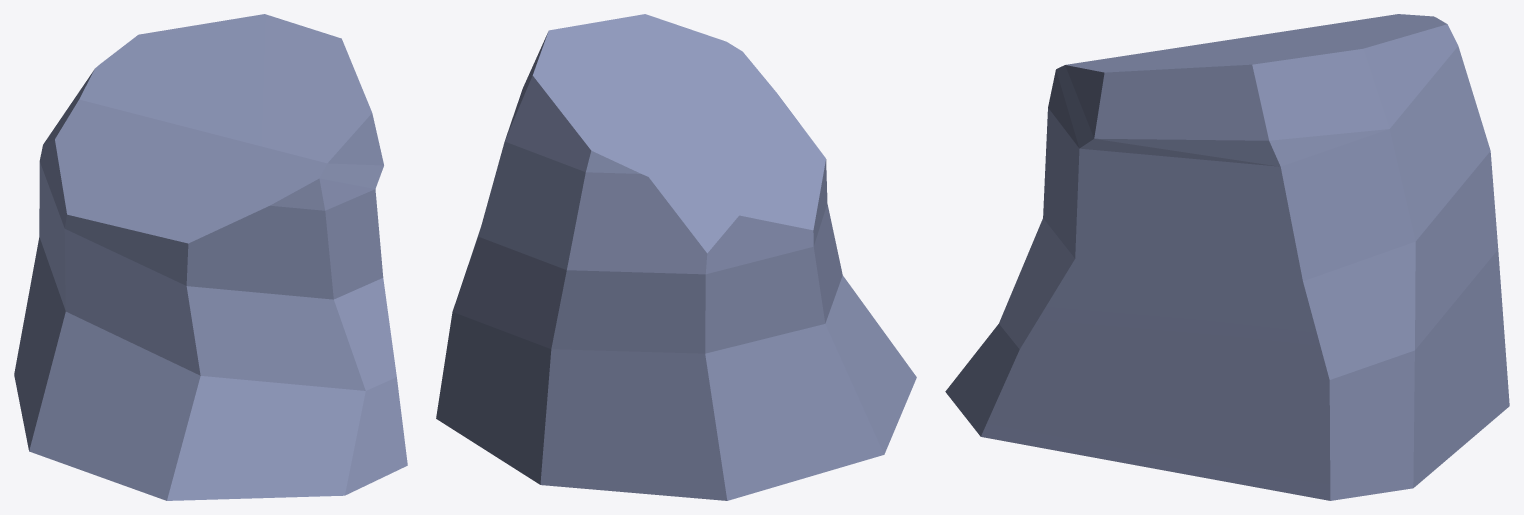
File: Rock_32.fbx
3 views of the same model, side by side, from view 1: azimuth 30°, elevation 25°; view 2: azimuth 150°, elevation 25°; view 3: azimuth 270°, elevation 25° (orthographic). The views are drawn at different scales.
Parts seen in each view (by area): view 1: Rock_32; view 2: Rock_32; view 3: Rock_32.
Boxes of the visible parts, x1,y1,x2,y2 form: Rock_32: [14, 14, 407, 500]; Rock_32: [436, 14, 916, 500]; Rock_32: [945, 14, 1509, 500].
Size of the model in its own units: 4.1 by 3.44 by 4.4.
